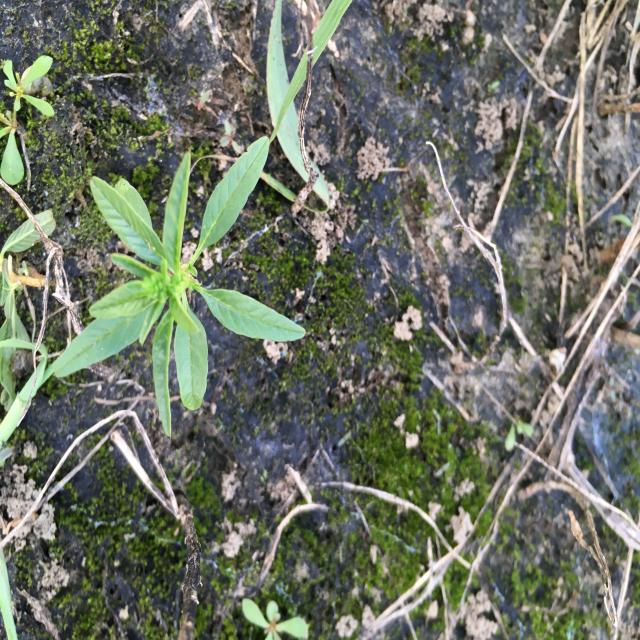Carpetweed: (0, 52, 57, 188)
Waterhemp: (51, 135, 306, 440)
